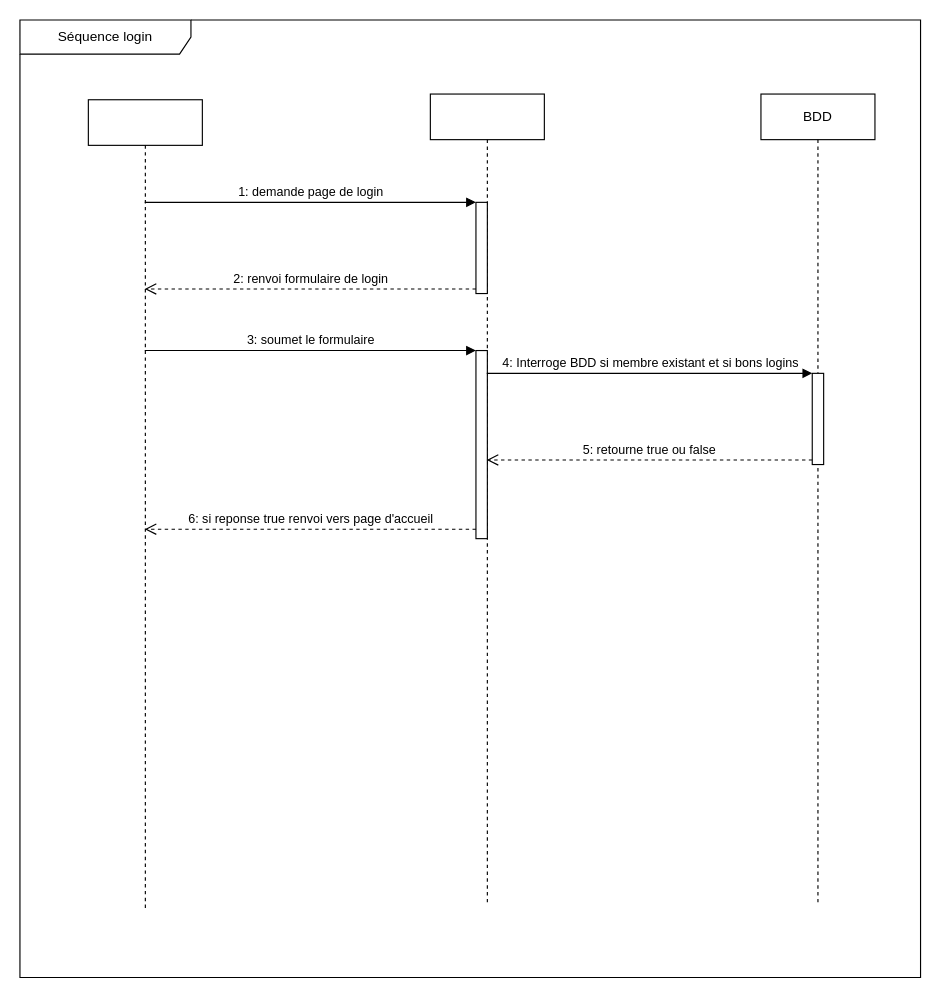
Image size: 941x998. Some labels were removed from this diagram. Each missing label, with the box of its shape:
System: (429, 93, 544, 903)
Utilisateur: (87, 99, 202, 909)
